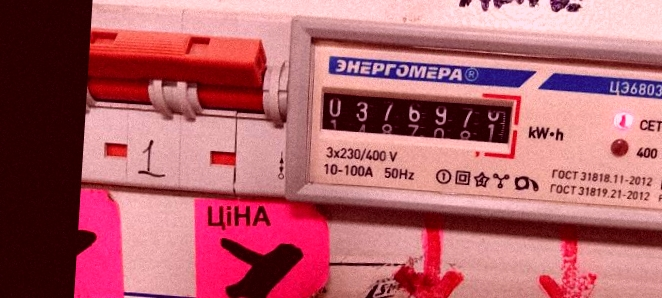0: (327, 94, 342, 117)
1: (483, 121, 497, 142)
3: (353, 99, 370, 122)
6: (406, 98, 422, 122)
7: (379, 97, 395, 121), (459, 104, 475, 128)
9: (431, 102, 448, 126)
screen: (309, 76, 524, 162)
